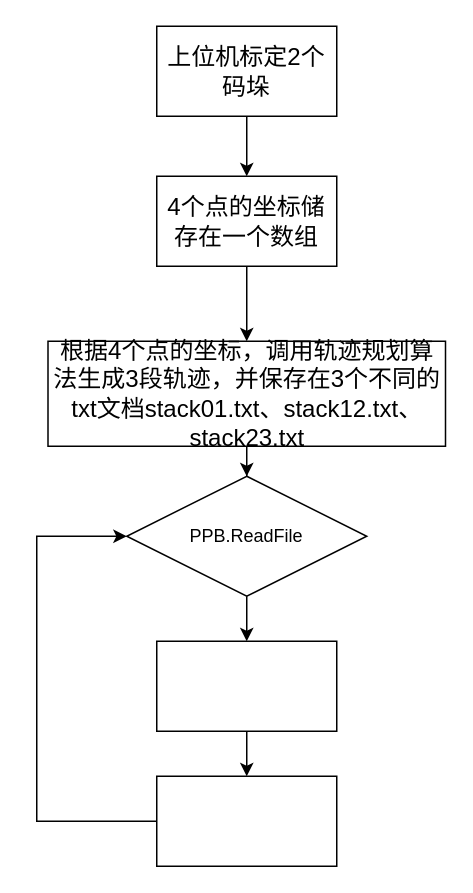
Some shapes in this 473 by 893 pixel diagram are drawn without their labels. The centre of each missing label's shape, as x and y in pixels:
"PPB.J2StartPoint" goes at [246,685].
"PPB.Run" goes at [246,820].
